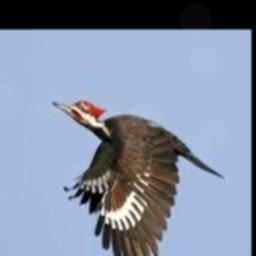Woodpecker: (53, 99, 224, 256)
